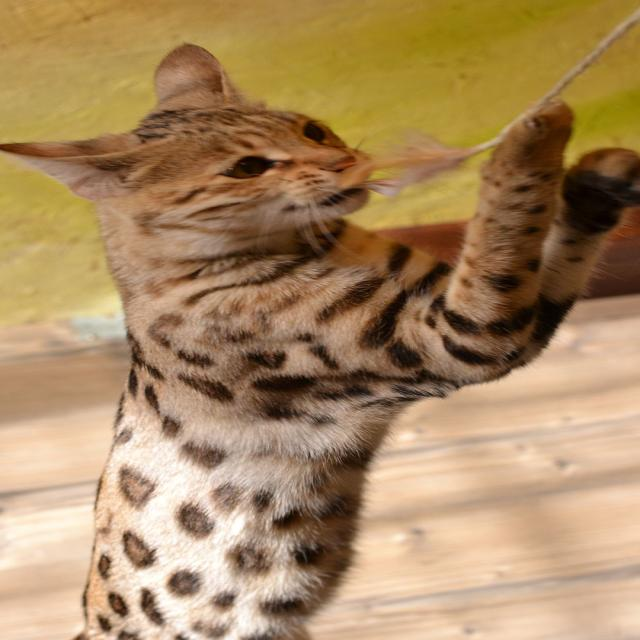Savannah: (0, 41, 640, 640)
